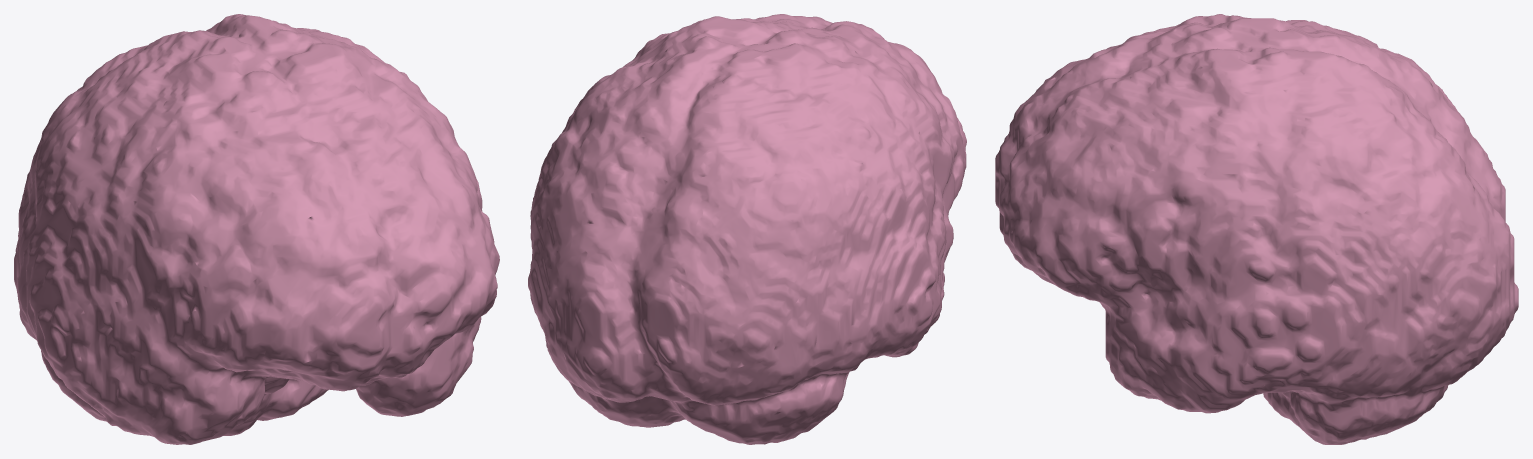
The model's file is brain.glb.
3 views of the same model, side by side, from view 1: azimuth 30°, elevation 25°; view 2: azimuth 150°, elevation 25°; view 3: azimuth 270°, elevation 25° (orthographic). The views are drawn at different scales.
Parts seen in each view (by area): view 1: Brain; view 2: Brain; view 3: Brain.
Part boxes in pixels (<box>): Brain: <box>14,14,499,444</box>; Brain: <box>528,14,966,444</box>; Brain: <box>995,14,1518,444</box>.
Size of the model in its own units: 0.1456 by 0.1387 by 0.1788.
